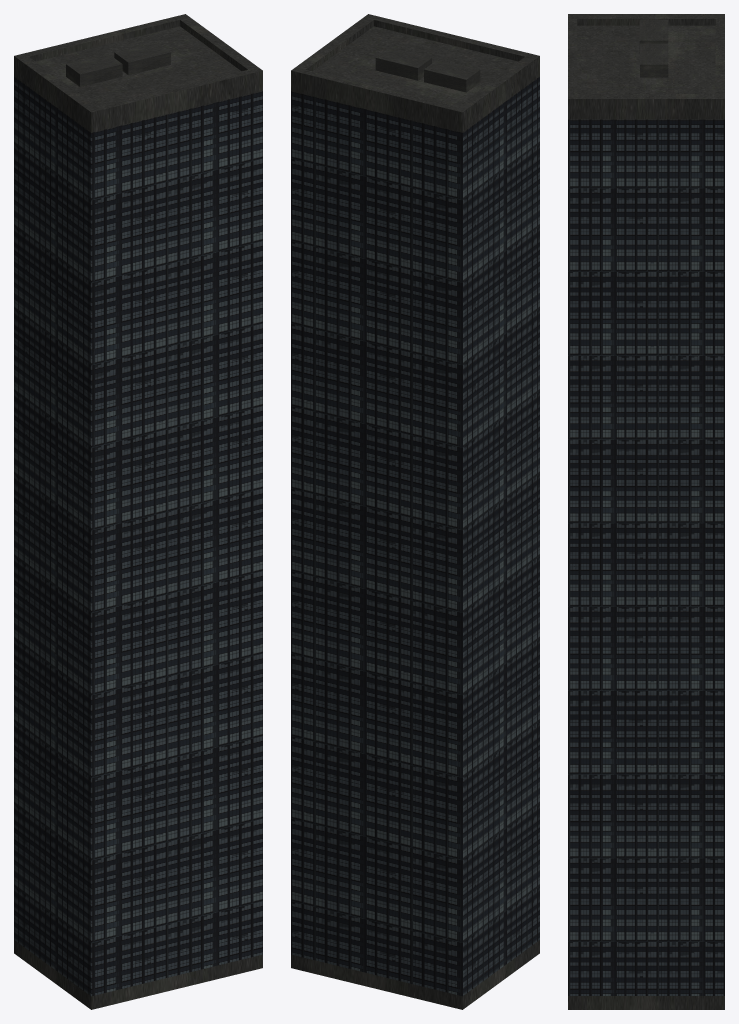
The model's file is blue-skyscraper.glb.
3 views of the same model, side by side, from view 1: azimuth 30°, elevation 25°; view 2: azimuth 150°, elevation 25°; view 3: azimuth 270°, elevation 25° (orthographic).
Visible parts, largest first — view 1: Cube.046; view 2: Cube.046; view 3: Cube.046.
Boxes of the visible parts, x1,y1,x2,y2 form: Cube.046: [14, 14, 262, 1009]; Cube.046: [291, 14, 539, 1009]; Cube.046: [568, 14, 724, 1009].
Size of the model in its own units: 17.1 by 86.05 by 13.35.
Materials: 2 (2 with a texture image).
